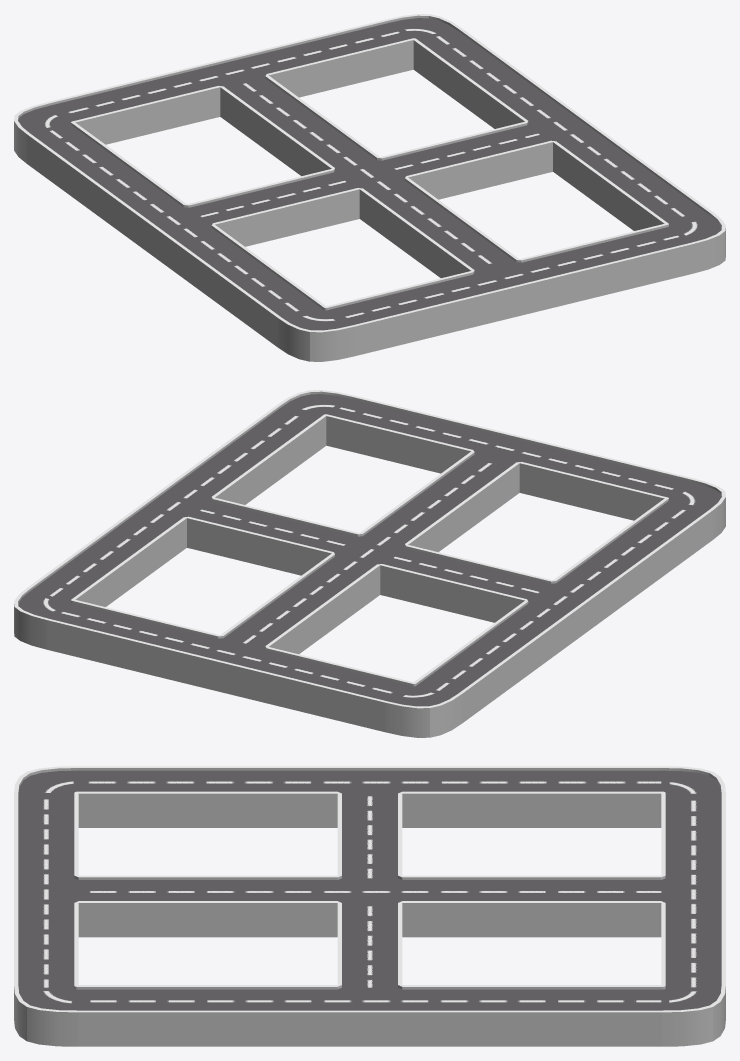
Rendered from level5_road.fbx.
3 renders of one model, top to bottom at view 1: azimuth 30°, elevation 25°; view 2: azimuth 150°, elevation 25°; view 3: azimuth 270°, elevation 25°, orthographic. The views are drawn at different scales.
Parts seen in each view (by area): view 1: level5; view 2: level5; view 3: level5.
Boxes of the visible parts, x1,y1,x2,y2 form: level5: (14,14,725,361); level5: (14,390,725,737); level5: (14,766,725,1046).
Size of the model in its own units: 9 by 0.5872 by 11.
